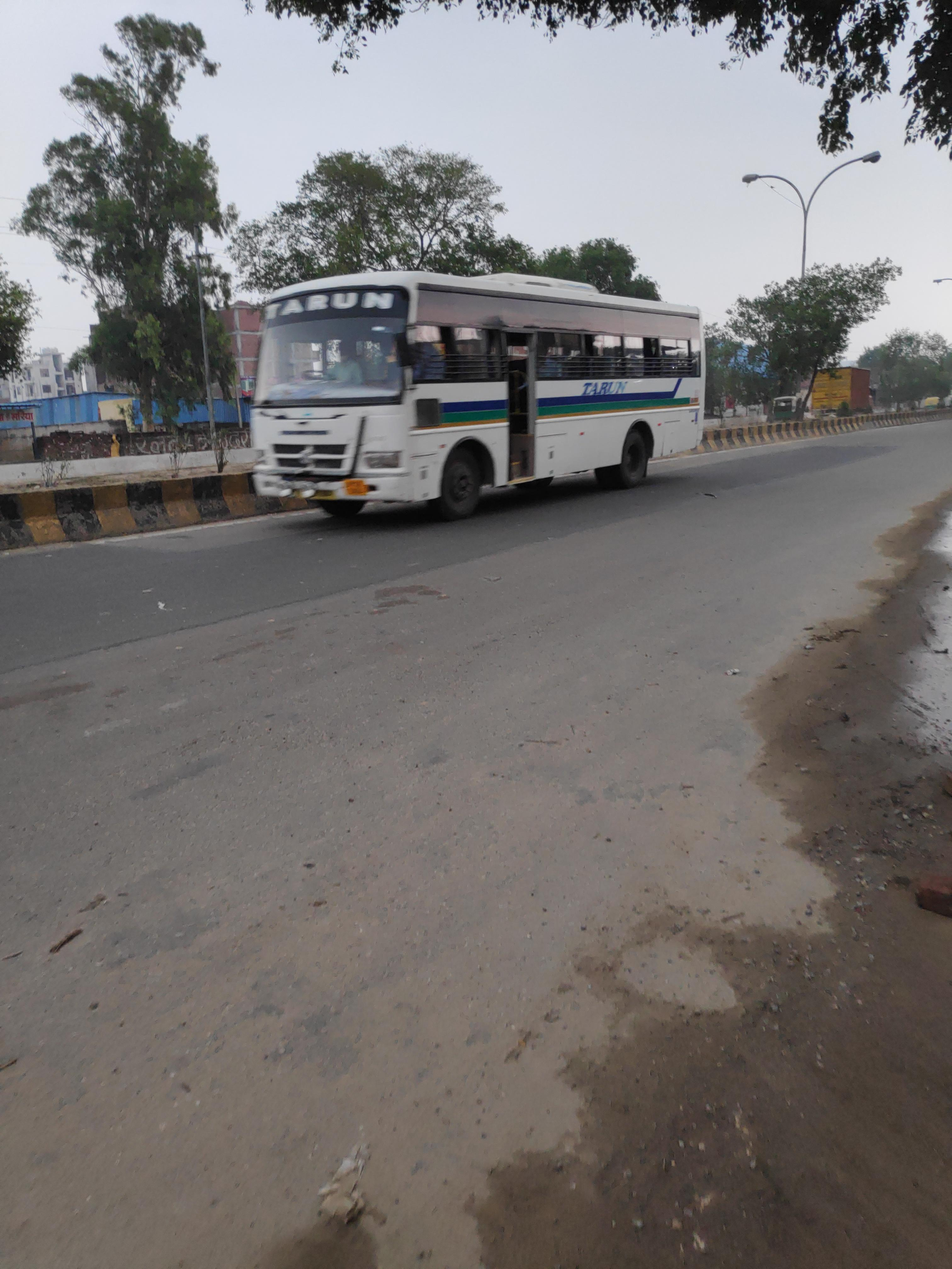Non-emergency: (231, 216, 755, 574)
